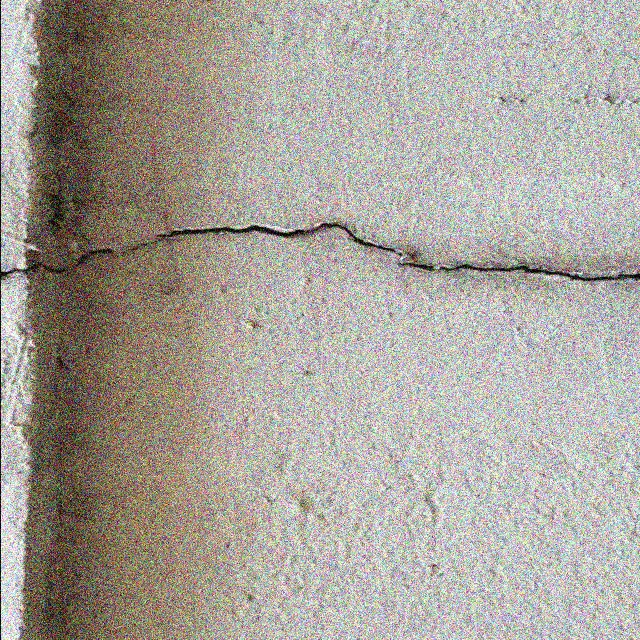SurfaceCrack: (5, 181, 640, 335)
